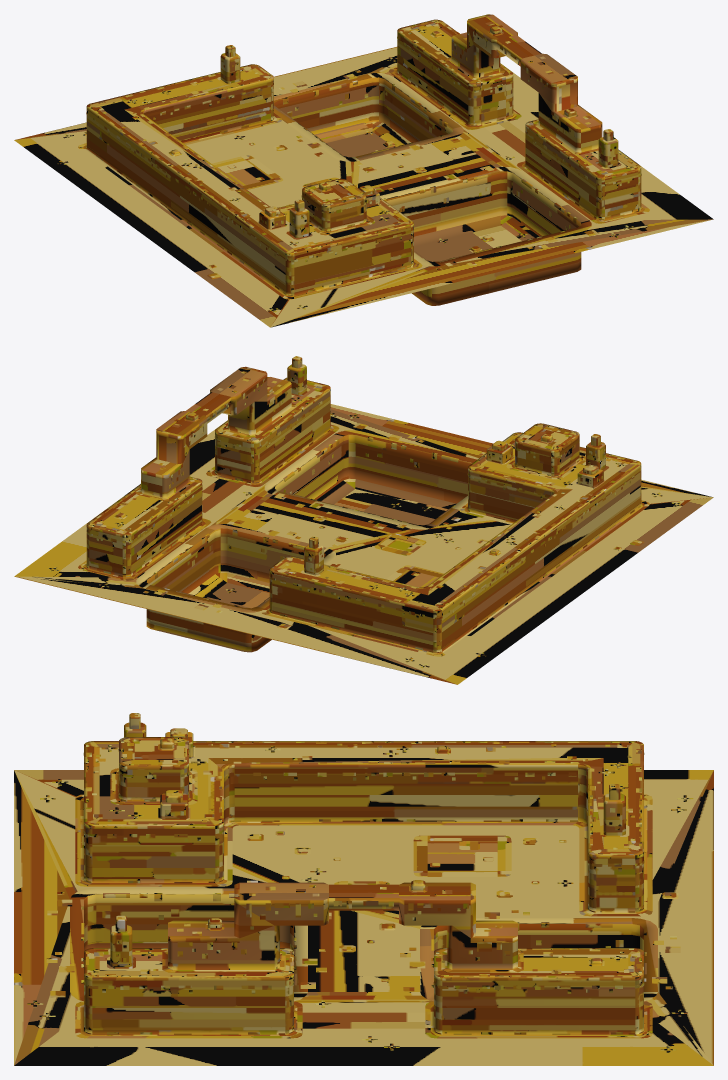
File: C_mountain1_08.fbx
3 views of the same model, one above another, from view 1: azimuth 30°, elevation 25°; view 2: azimuth 150°, elevation 25°; view 3: azimuth 270°, elevation 25° (orthographic). The views are drawn at different scales.
Parts seen in each view (by area): view 1: C_mountain1_08.002; view 2: C_mountain1_08.002; view 3: C_mountain1_08.002.
Boxes of the visible parts, <box> form: C_mountain1_08.002: <box>14,14,713,327</box>; C_mountain1_08.002: <box>14,356,713,684</box>; C_mountain1_08.002: <box>14,713,713,1065</box>.
Size of the model in its own units: 50 by 15.55 by 50.
